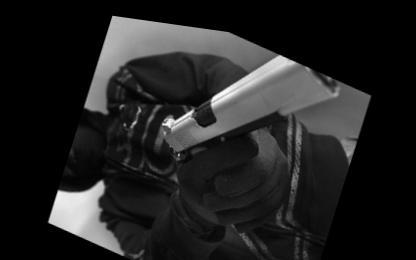pistol: (139, 15, 344, 235)
